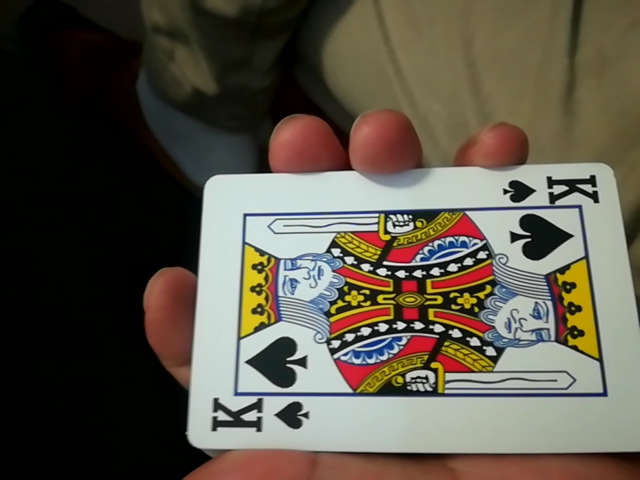ht k: (180, 163, 635, 453)
